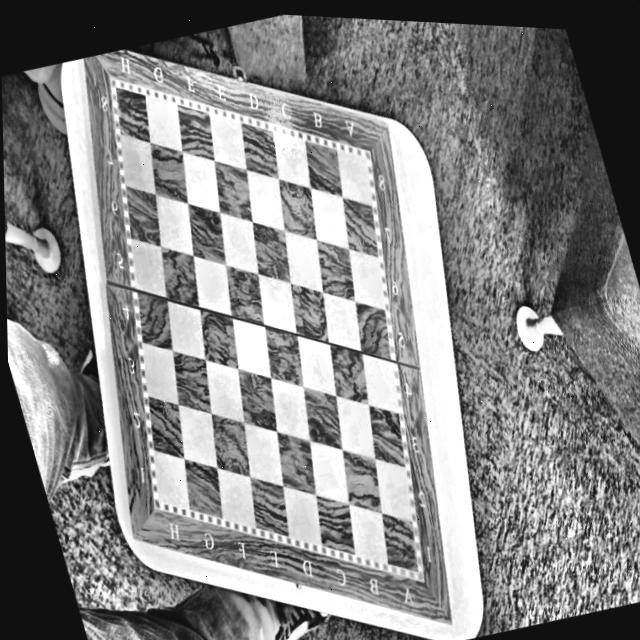chessboard: (108, 74, 424, 582)
p1: (411, 561, 421, 579)
p2: (357, 153, 370, 165)
p3: (112, 80, 125, 100)
p4: (157, 494, 169, 506)
